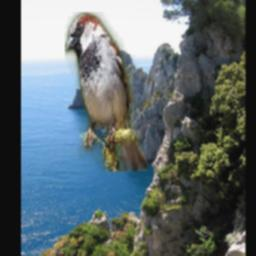Sparrow: (65, 13, 147, 172)
